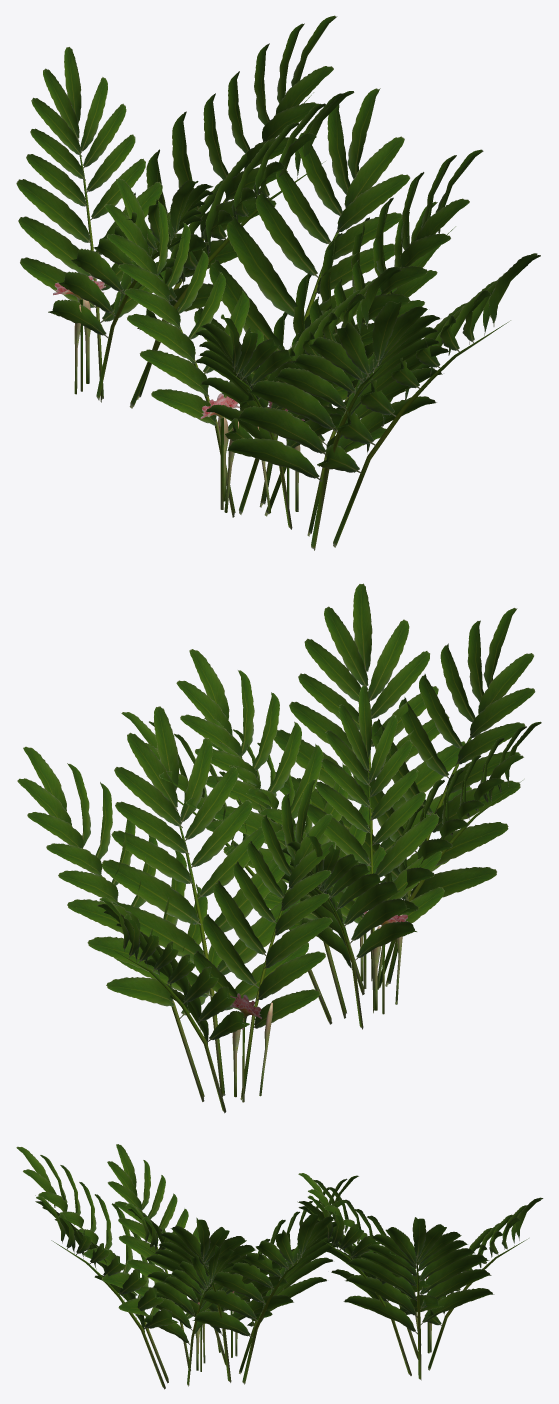
The model's file is plant.dae.
3 views of the same model, one above another, from view 1: azimuth 30°, elevation 25°; view 2: azimuth 150°, elevation 25°; view 3: azimuth 270°, elevation 25° (orthographic). The views are drawn at different scales.
Parts seen in each view (by area): view 1: Component_83 (×69), Component_82 (×3); view 2: Component_83 (×86), Component_82 (×2); view 3: Component_83 (×52), Component_82 (×6).
Boxes of the visible parts, left/top/right/bottom form: Component_83 (×69): left=16, top=23, right=537, bottom=481; Component_82 (×3): left=129, top=161, right=510, bottom=550; Component_83 (×86): left=17, top=583, right=535, bottom=1028; Component_82 (×2): left=113, top=826, right=226, bottom=1113; Component_83 (×52): left=16, top=1144, right=494, bottom=1345; Component_82 (×6): left=51, top=1238, right=528, bottom=1389.
Size of the model in its own units: 101 by 200 by 97.66.
Materials: 2 (2 with a texture image).
